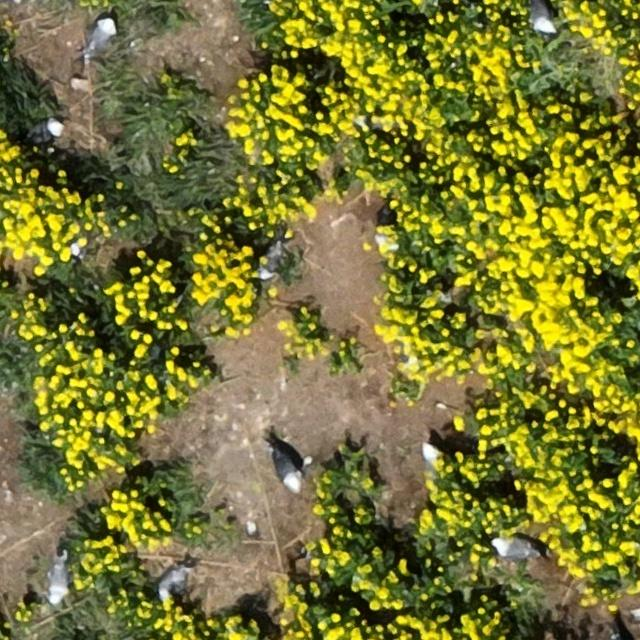umineko: (272, 450, 300, 488), (87, 16, 114, 52), (48, 557, 69, 603), (492, 539, 536, 560), (158, 567, 186, 599), (261, 243, 284, 279), (530, 1, 554, 34), (32, 118, 63, 141), (420, 441, 438, 469)
